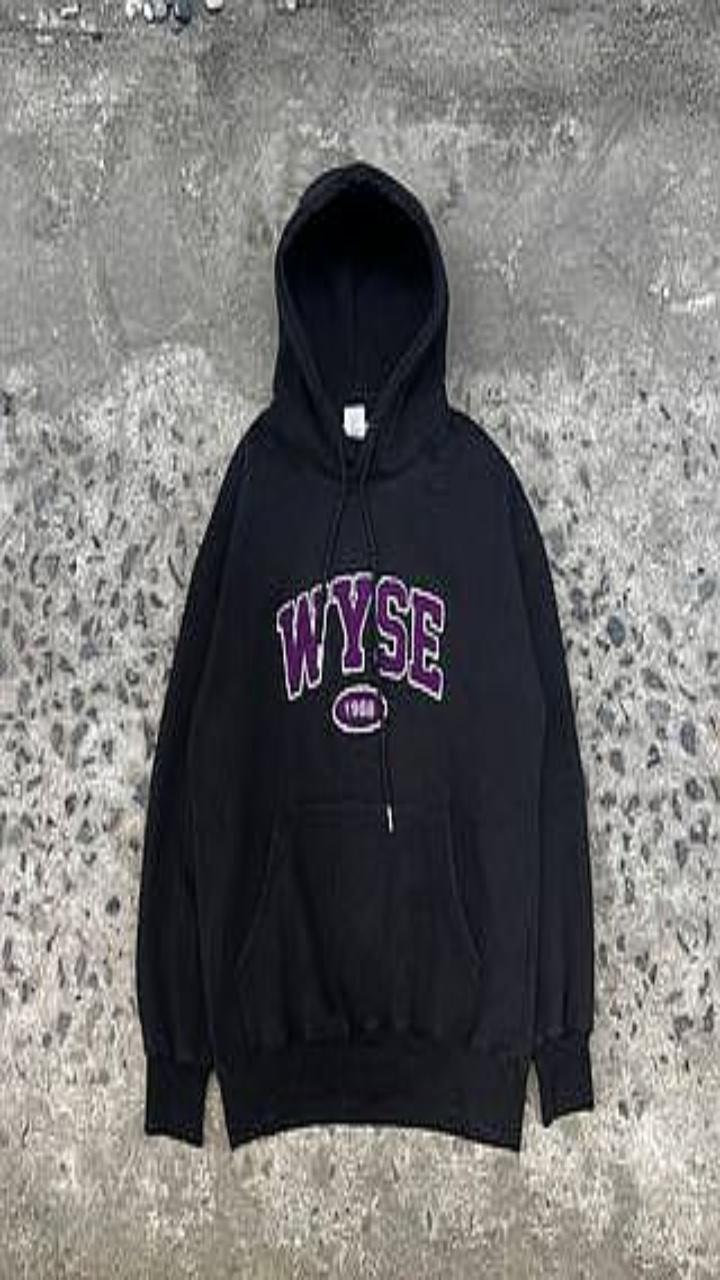Hoodie: (136, 160, 592, 1149)
